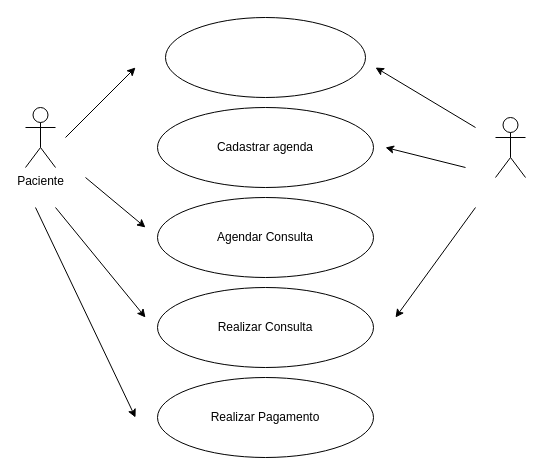
Some shapes in this 547 by 475 pixel diagram are drawn without their labels. The centre of each missing label's shape, as x and y in pixels:
Cadastro / Login: point (265, 57)
Médico: point (510, 147)
